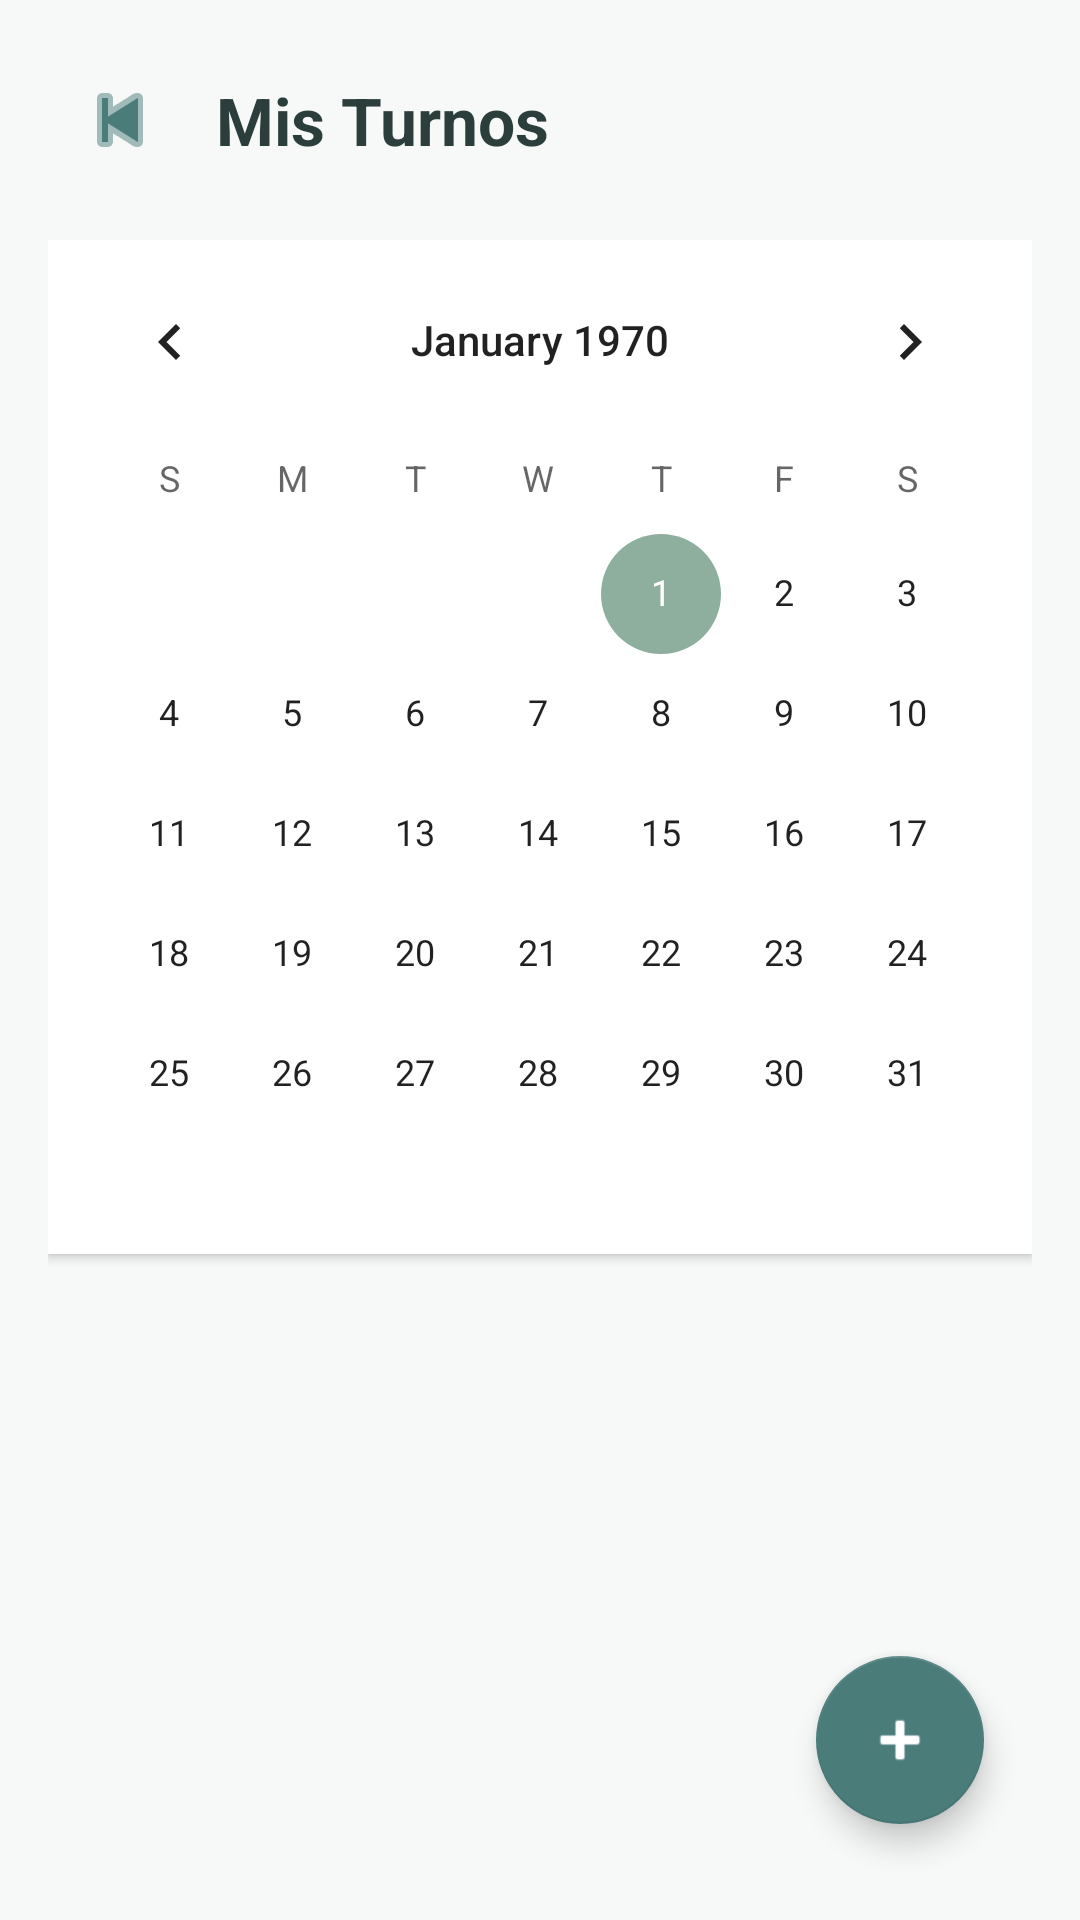

Named icons in this screenshot (1080px x 1920px) and their bounding boxes, [x1,y1,x2,y2]:
Agendar Consulta: [816,1656,984,1824]
Volver al Home: [97,93,143,147]
